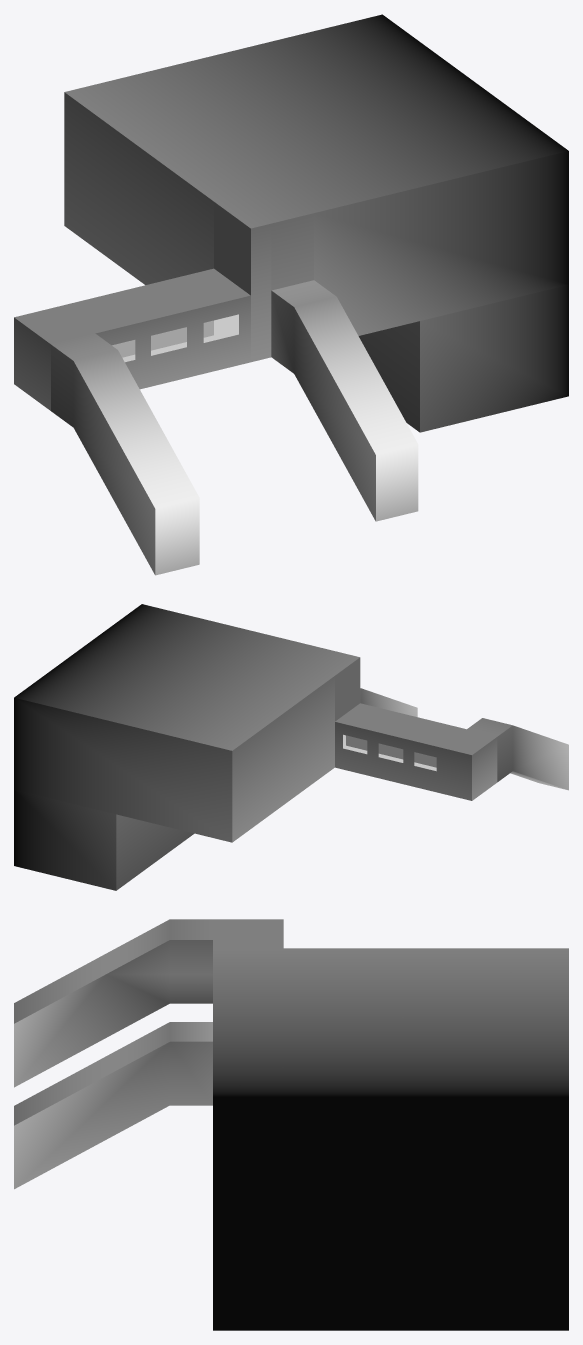
The model's file is HIBARIGAOKA_UE.glb.
The picture shows the model from 3 angles, top to bottom: view 1: azimuth 30°, elevation 25°; view 2: azimuth 150°, elevation 25°; view 3: azimuth 270°, elevation 25°; orthographic projection. The views are drawn at different scales.
Visible parts, largest first — view 1: FRAME_ROOT; view 2: FRAME_ROOT; view 3: FRAME_ROOT.
Part boxes in pixels (x1,y1,x2,y2): FRAME_ROOT: [14, 14, 568, 575]; FRAME_ROOT: [14, 604, 568, 890]; FRAME_ROOT: [14, 919, 568, 1330].
Bounding box in the file's own units: 81.06 × 36.68 × 78.81.
1 material, 1 textured.
